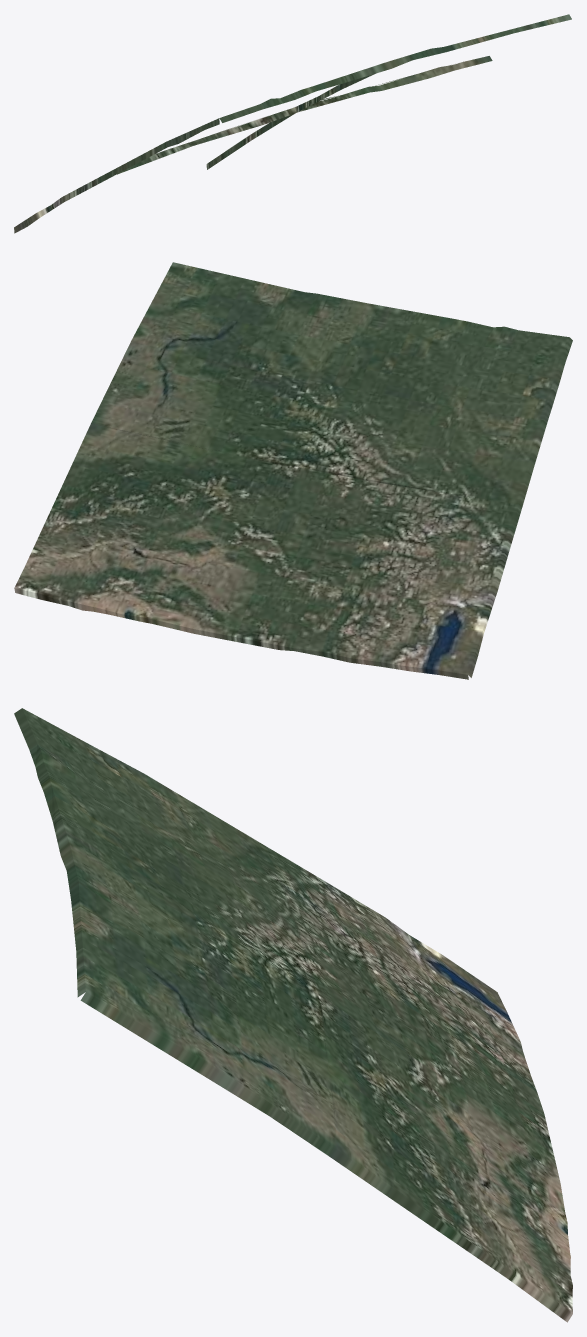
3 renders of one model, top to bottom at view 1: azimuth 30°, elevation 25°; view 2: azimuth 150°, elevation 25°; view 3: azimuth 270°, elevation 25°, orthographic. The views are drawn at different scales.
Bounding box in the file's own units: 800472 × 387333 × 582030.
Materials: 1 (1 with a texture image).
